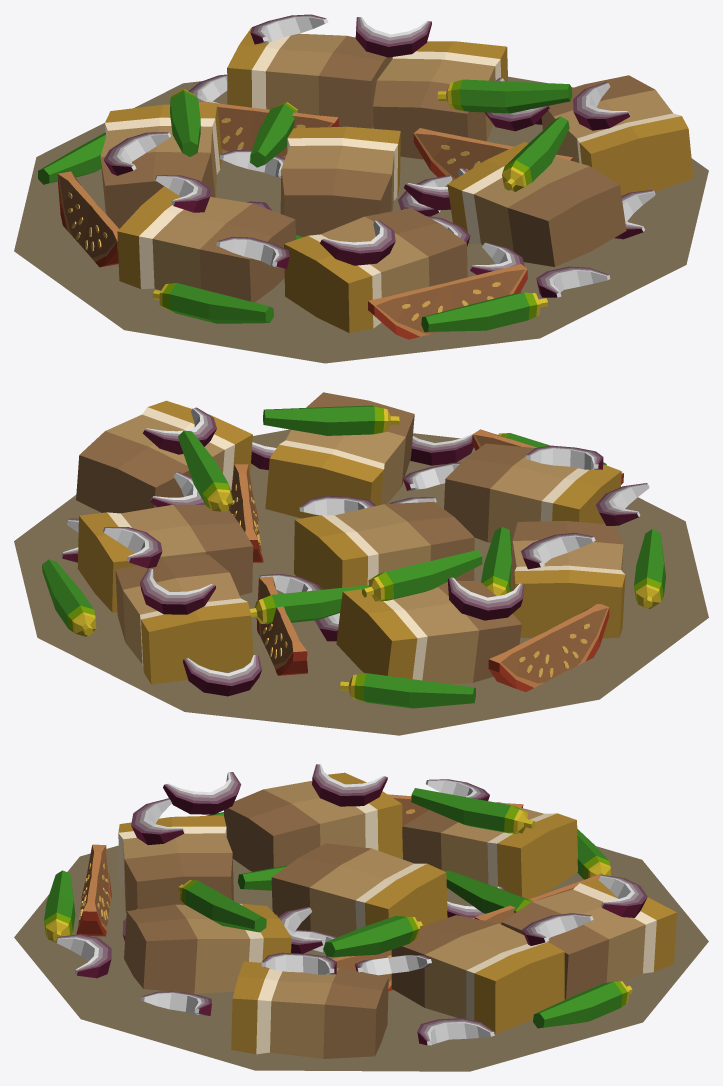
File: Sinigang sa mangga.fbx
3 renders of one model, top to bottom at view 1: azimuth 30°, elevation 25°; view 2: azimuth 150°, elevation 25°; view 3: azimuth 270°, elevation 25°, orthographic. The views are drawn at different scales.
Visible parts, largest first — view 1: Sinigang sa Mangga; view 2: Sinigang sa Mangga; view 3: Sinigang sa Mangga.
Boxes of the visible parts, box(x1,y1,x2,y2) form: Sinigang sa Mangga: box(14, 14, 708, 363); Sinigang sa Mangga: box(14, 392, 708, 735); Sinigang sa Mangga: box(14, 764, 708, 1071).
Bounding box in the file's own units: 96.03 × 18.61 × 101.
